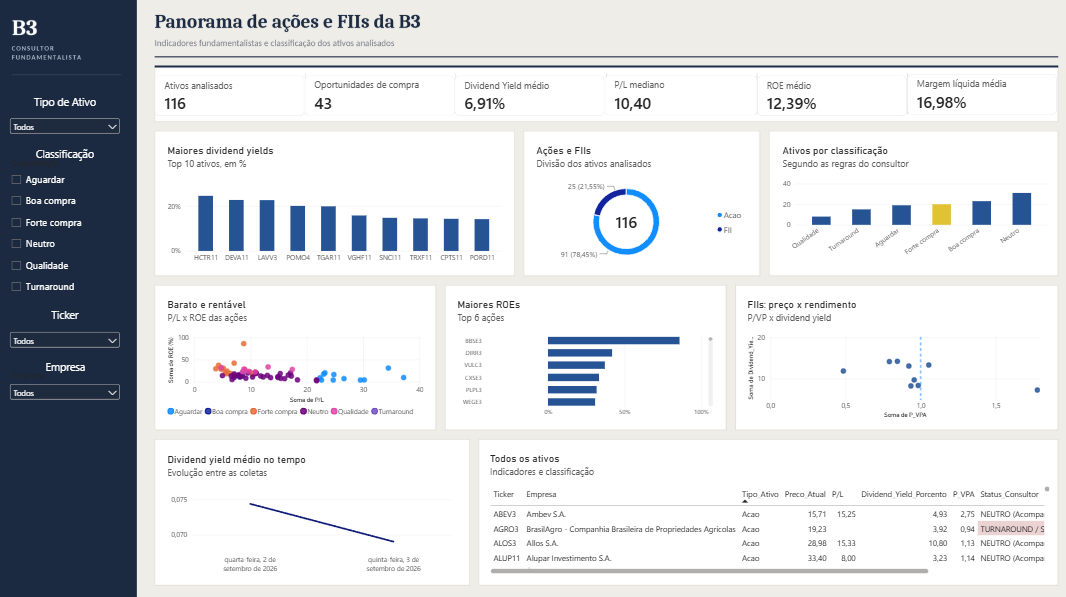

What the dashboard file says about the page in this screenshot:
{"tool":"powerbi","page":{"name":"Página 1","canvas":[1920,1080],"ordinal":0},"visuals":[{"type":"cardVisual","fields":{"Data":["Dados_Atuais.Qtd Ativos"]},"box":[282,138,266,72],"z":0},{"type":"cardVisual","fields":{"Data":["Dados_Atuais.Qtd Oportunidades"]},"box":[548.5,137.7,267.5,71.7],"z":1000},{"type":"cardVisual","fields":{"Data":["Dados_Atuais.DY Medio"]},"box":[816.2,137.7,266,72],"z":2000},{"type":"cardVisual","fields":{"Data":["Dados_Atuais.PL Mediano"]},"box":[1082.1,136.9,271.4,71.4],"z":3000},{"type":"cardVisual","fields":{"Data":["Dados_Atuais.ROE Medio"]},"box":[1354,138.1,266,72],"z":4000},{"type":"cardVisual","fields":{"Data":["Dados_Atuais.Margem Media"]},"box":[1620.4,136.3,266,72],"z":5000},{"type":"clusteredColumnChart","title":"Maiores dividend yields\t","fields":{"Category":["Dados_Atuais.Ticker"],"Y":["Dados_Atuais.DY Medio"]},"box":[288,247,627,244],"z":6000},{"type":"donutChart","title":"Ações e FIIs","fields":{"Category":["Dados_Atuais.Tipo_Ativo"],"Y":["Dados_Atuais.Qtd Ativos"]},"box":[945,247,406,244],"z":7000},{"type":"lineClusteredColumnComboChart","title":"Ativos por classificação","fields":{"Category":["Dados_Atuais.Classificacao"],"Y":["Dados_Atuais.Qtd Ativos"]},"box":[1382.1,246.2,505.1,243.6],"z":8000},{"type":"scatterChart","title":"Barato e rentável","fields":{"Category":["Dados_Atuais.Ticker"],"Series":["Dados_Atuais.Classificacao"],"X":["Sum(Dados_Atuais.P_L)"],"Y":["Sum(Dados_Atuais.ROE_Porcento)"]},"box":[288,521,487,244],"z":9000},{"type":"clusteredBarChart","title":"Maiores ROEs","fields":{"Category":["Dados_Atuais.Ticker"],"Y":["Dados_Atuais.ROE Medio"]},"box":[805,521,486,244],"z":10000},{"type":"scatterChart","title":"FIIs: preço x rendimento","fields":{"Category":["Dados_Atuais.Ticker"],"X":["Sum(Dados_Atuais.P_VPA)"],"Y":["Sum(Dados_Atuais.Dividend_Yield_Porcento)"]},"box":[1321,521,560,244],"z":11000},{"type":"lineChart","title":"Dividend yield médio no tempo","fields":{"Category":["Historico.Data_Analise"],"Y":["Dados_Atuais.DY Medio Hist"]},"box":[288,795,547,246],"z":12000},{"type":"tableEx","title":"Todos os ativos","fields":{"Values":["Dados_Atuais.Ticker","Dados_Atuais.Empresa","Dados_Atuais.Tipo_Ativo","Dados_Atuais.Preco_Atual","Sum(Dados_Atuais.P_L)","Dados_Atuais.Dividend_Yield_Porcento","Dados_Atuais.P_VPA","Dados_Atuais.Status_Consultor","Sum(Dados_Atuais.ROE_Porcento)"]},"box":[861.5,794.2,1026.9,246.2],"z":13000},{"type":"slicer","fields":{"Values":["Dados_Atuais.Tipo_Ativo"]},"box":[19.2,209.6,205,55],"z":14000},{"type":"textbox","box":[19.7,172.1,204.9,37.7],"z":15000},{"type":"textbox","box":[20,264.4,204.4,40],"z":16000},{"type":"textbox","box":[19.7,550.8,204.9,37.7],"z":17000},{"type":"slicer","fields":{"Values":["Dados_Atuais.Ticker"]},"box":[19.6,589.3,205,55],"z":18000},{"type":"slicer","fields":{"Values":["Dados_Atuais.Empresa"]},"box":[19.7,662.3,205,55],"z":19000},{"type":"textbox","box":[19.7,642.6,206.6,39.3],"z":20000},{"type":"slicer","fields":{"Values":["Dados_Atuais.Classificacao"]},"box":[19.7,285.2,206.6,254.1],"z":21000}]}

Visuals, with their boxes on the page's 1920x1080 design canvas (x1, y1, x2, y2). These are canvas units, not pixel positions in the 1066x597 screenshot, which may show the page scaled, cropped or inside an application window:
cardVisual - Dados_Atuais.Qtd Ativos: Rect(282, 138, 548, 210)
cardVisual - Dados_Atuais.Qtd Oportunidades: Rect(548, 138, 816, 209)
cardVisual - Dados_Atuais.DY Medio: Rect(816, 138, 1082, 210)
cardVisual - Dados_Atuais.PL Mediano: Rect(1082, 137, 1354, 208)
cardVisual - Dados_Atuais.ROE Medio: Rect(1354, 138, 1620, 210)
cardVisual - Dados_Atuais.Margem Media: Rect(1620, 136, 1886, 208)
"Maiores dividend yields	" clusteredColumnChart: Rect(288, 247, 915, 491)
"Ações e FIIs" donutChart: Rect(945, 247, 1351, 491)
"Ativos por classificação" lineClusteredColumnComboChart: Rect(1382, 246, 1887, 490)
"Barato e rentável" scatterChart: Rect(288, 521, 775, 765)
"Maiores ROEs" clusteredBarChart: Rect(805, 521, 1291, 765)
"FIIs: preço x rendimento" scatterChart: Rect(1321, 521, 1881, 765)
"Dividend yield médio no tempo" lineChart: Rect(288, 795, 835, 1041)
"Todos os ativos" tableEx: Rect(862, 794, 1888, 1040)
slicer - Dados_Atuais.Tipo_Ativo: Rect(19, 210, 224, 265)
textbox: Rect(20, 172, 225, 210)
textbox: Rect(20, 264, 224, 304)
textbox: Rect(20, 551, 225, 588)
slicer - Dados_Atuais.Ticker: Rect(20, 589, 225, 644)
slicer - Dados_Atuais.Empresa: Rect(20, 662, 225, 717)
textbox: Rect(20, 643, 226, 682)
slicer - Dados_Atuais.Classificacao: Rect(20, 285, 226, 539)
